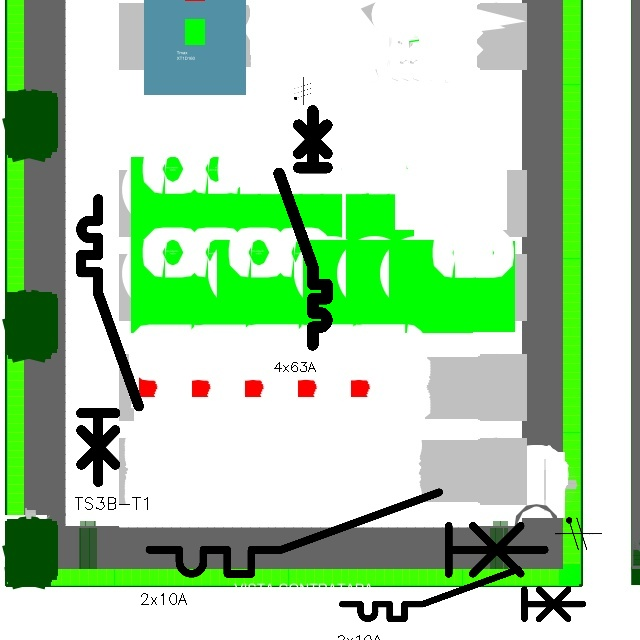interruptor_termomagnetico: (139, 482, 555, 584), (74, 192, 146, 489), (336, 563, 589, 625), (273, 104, 333, 350)
